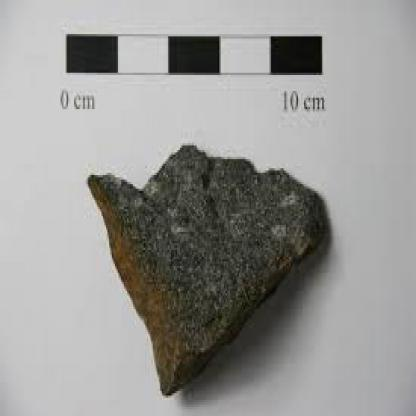Igneous_Diorite: (80, 134, 333, 393)
